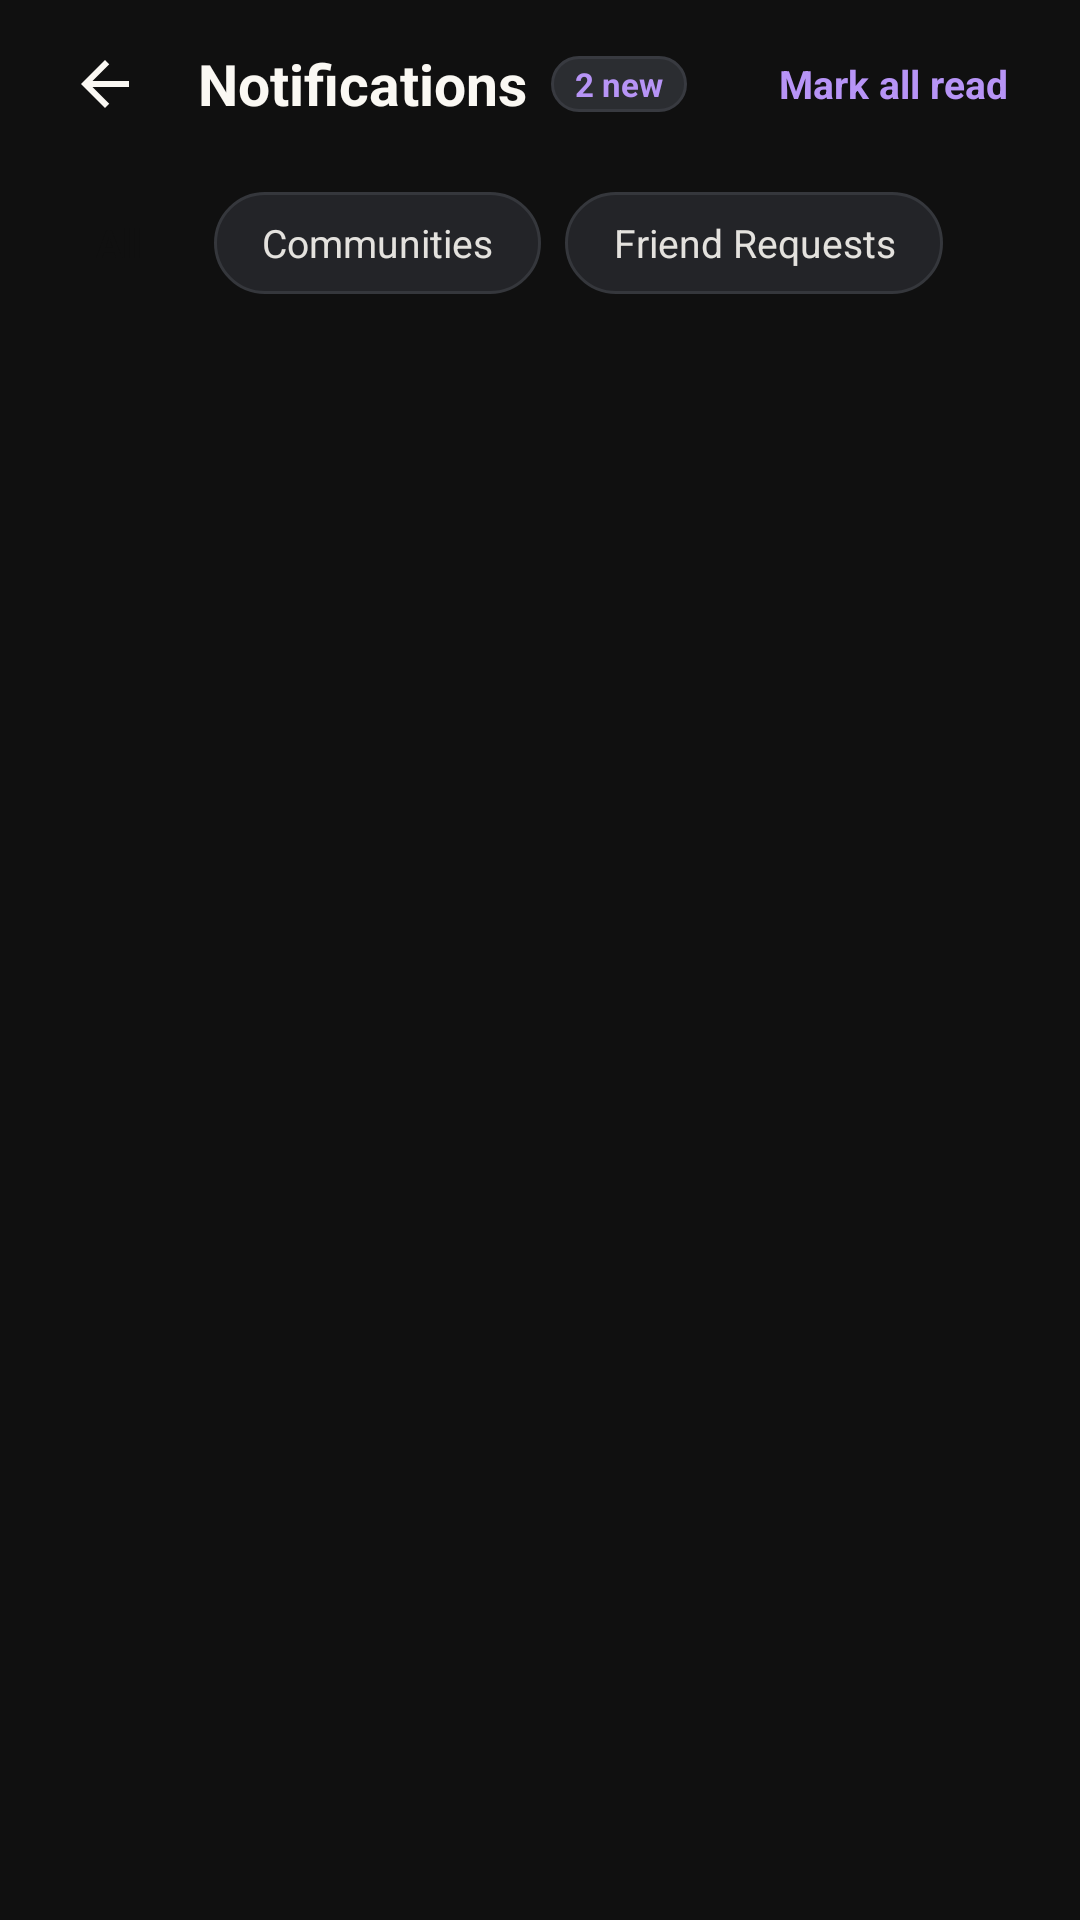

Screen size 1080x1920. Icon name, then its box in pixels as {"left": x1, "top": y1, "right": x2, "bottom": y2}:
Back: {"left": 81, "top": 60, "right": 129, "bottom": 108}
